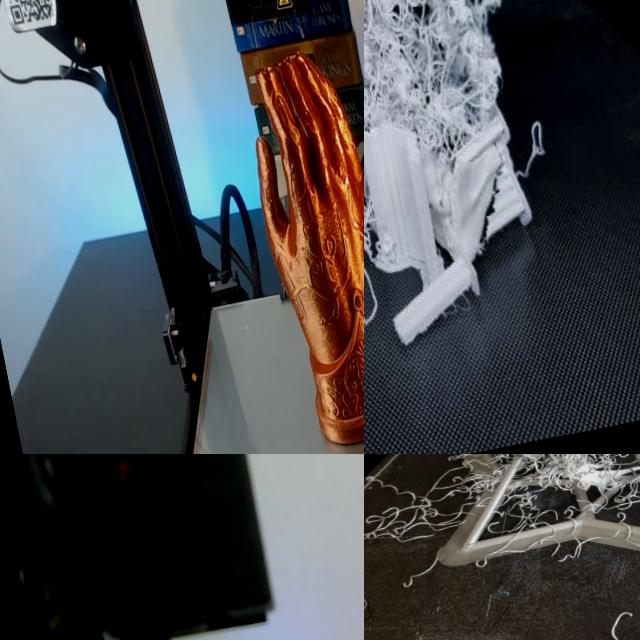spaghetti: (364, 0, 584, 363), (364, 454, 640, 619)
